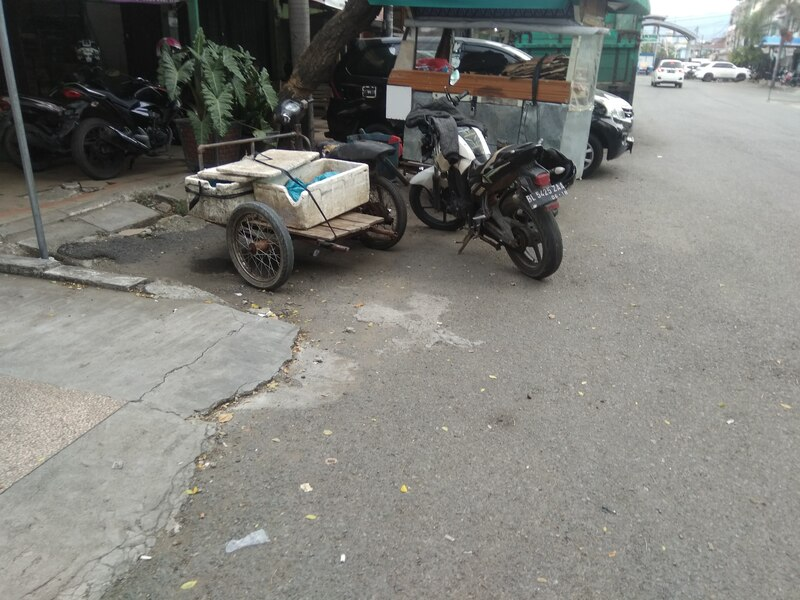becak barang: (178, 89, 410, 297)
motorcycle: (402, 69, 574, 290), (62, 67, 196, 181)
